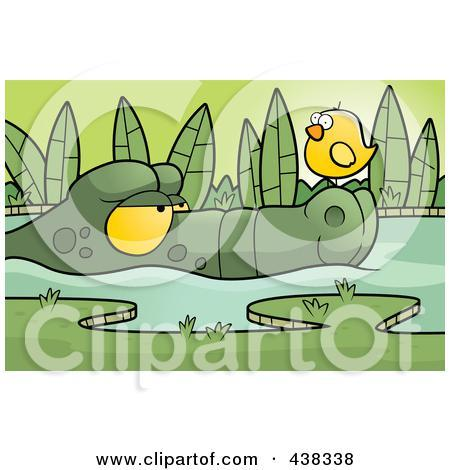bird: (295, 104, 382, 189)
